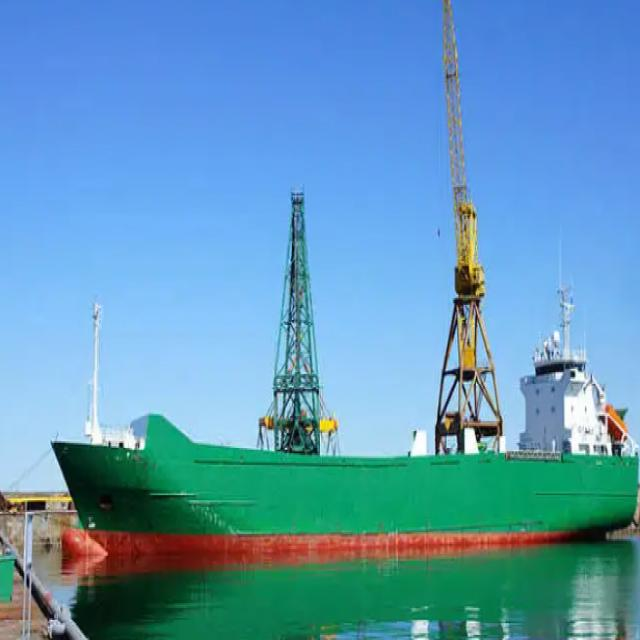cargoship: (50, 201, 640, 573)
